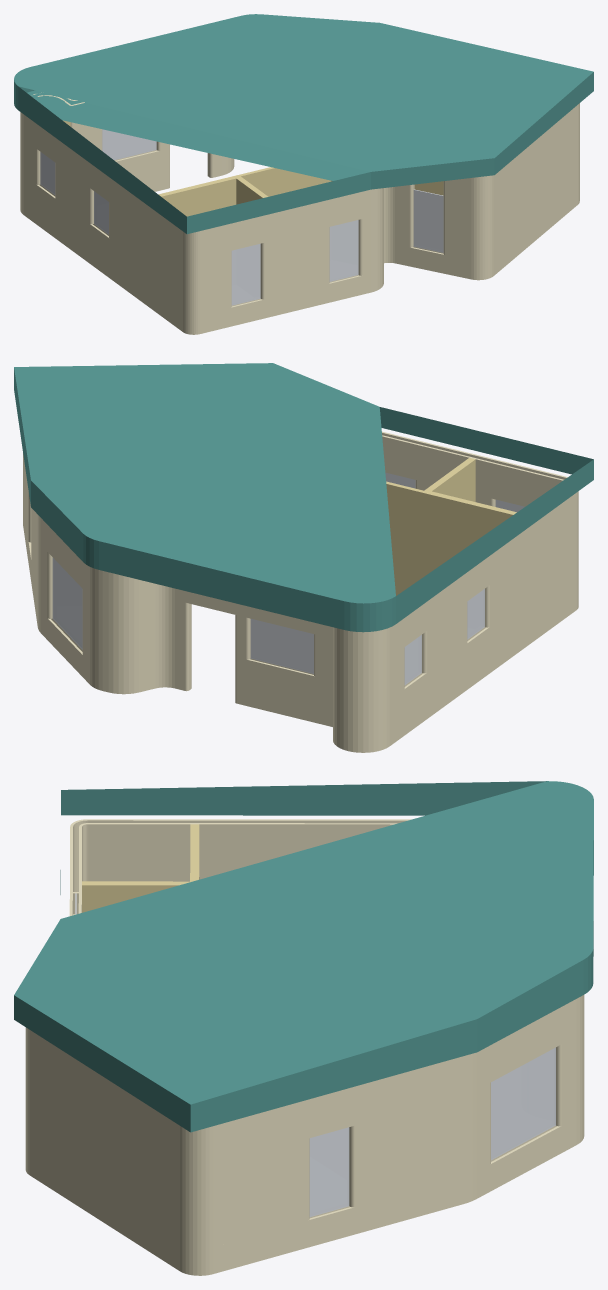
File: Mark8.glb
3 views of the same model, one above another, from view 1: azimuth 30°, elevation 25°; view 2: azimuth 150°, elevation 25°; view 3: azimuth 270°, elevation 25° (orthographic). The views are drawn at different scales.
Size of the model in its own units: 41.62 by 11.5 by 32.16.
